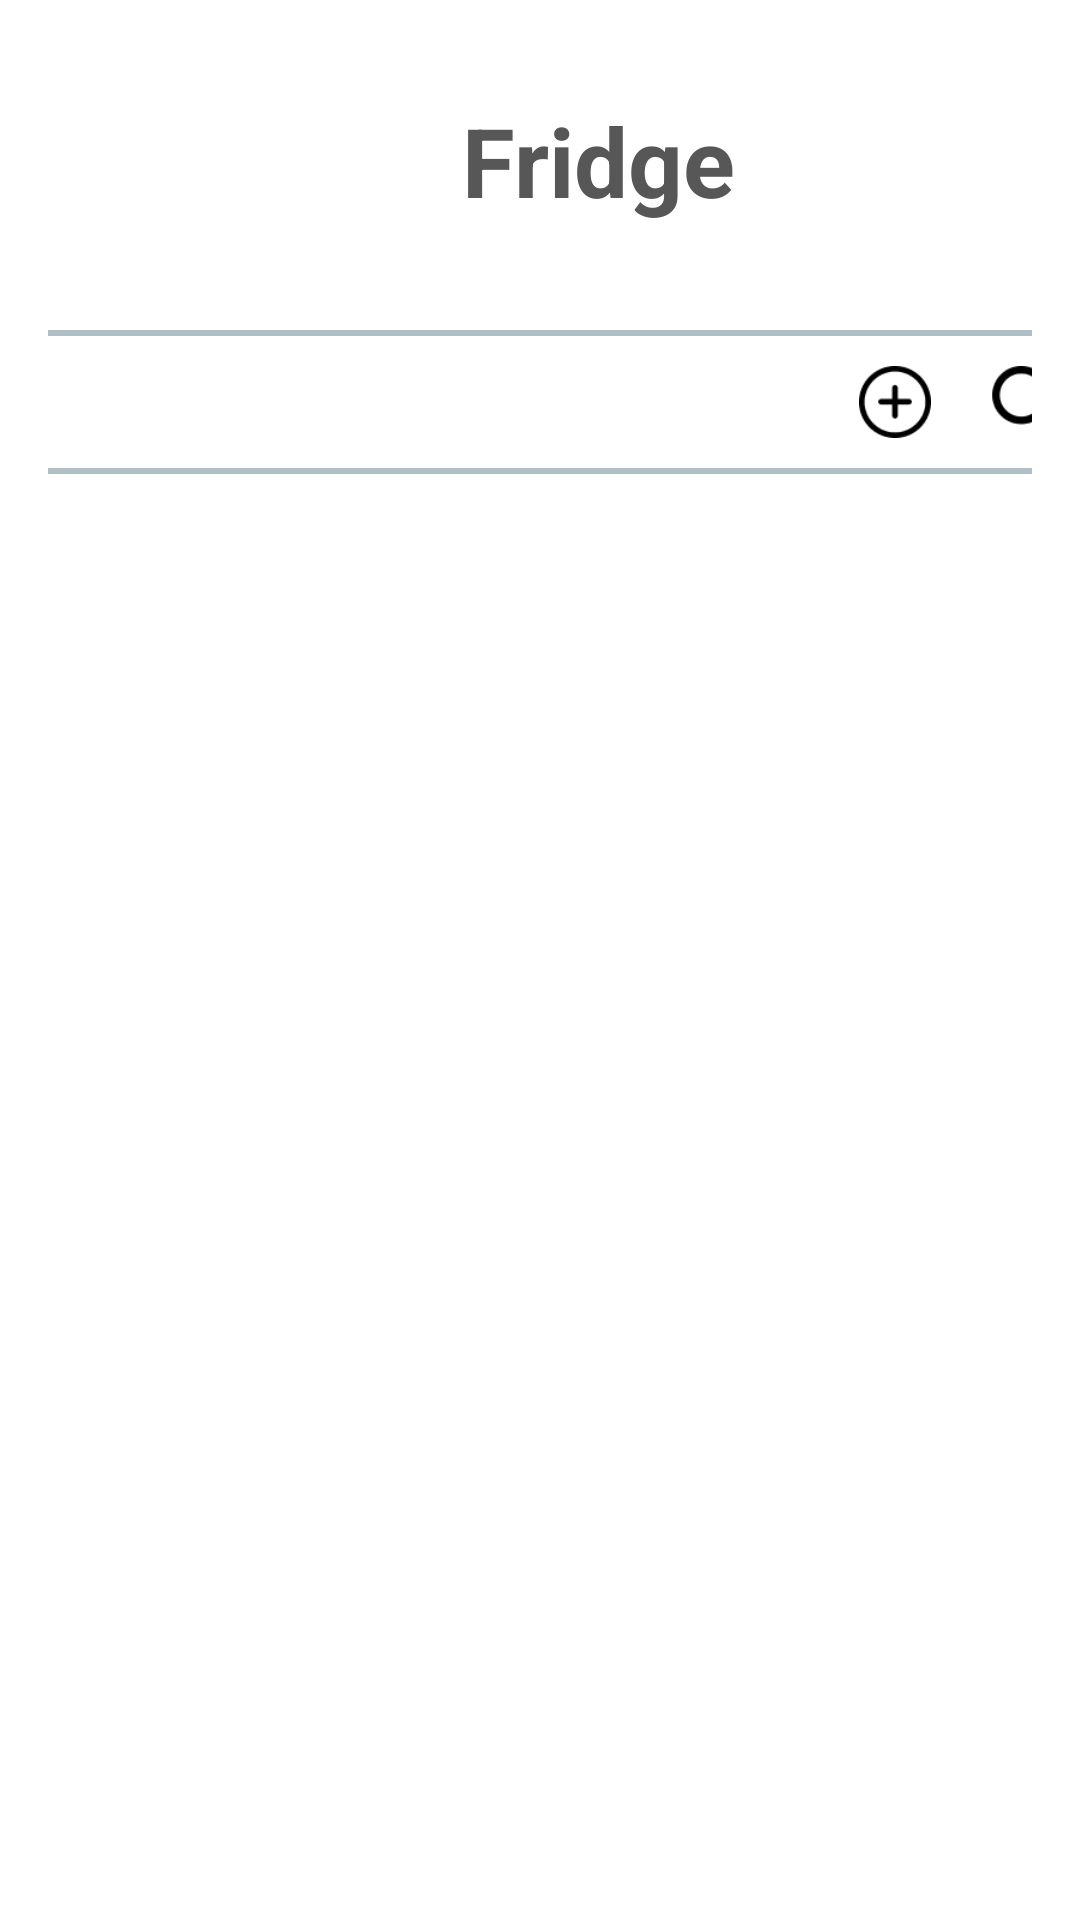

Icons on this 1080w x 1920h Android screen, each with the point to tap as (x,y):
Add Item: (895,402)
